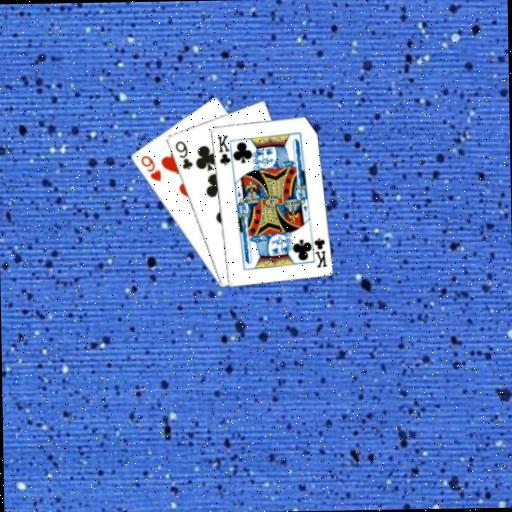9C: (171, 138, 194, 172)
9H: (138, 152, 163, 184)
KC: (214, 132, 235, 169), (307, 232, 328, 269)
